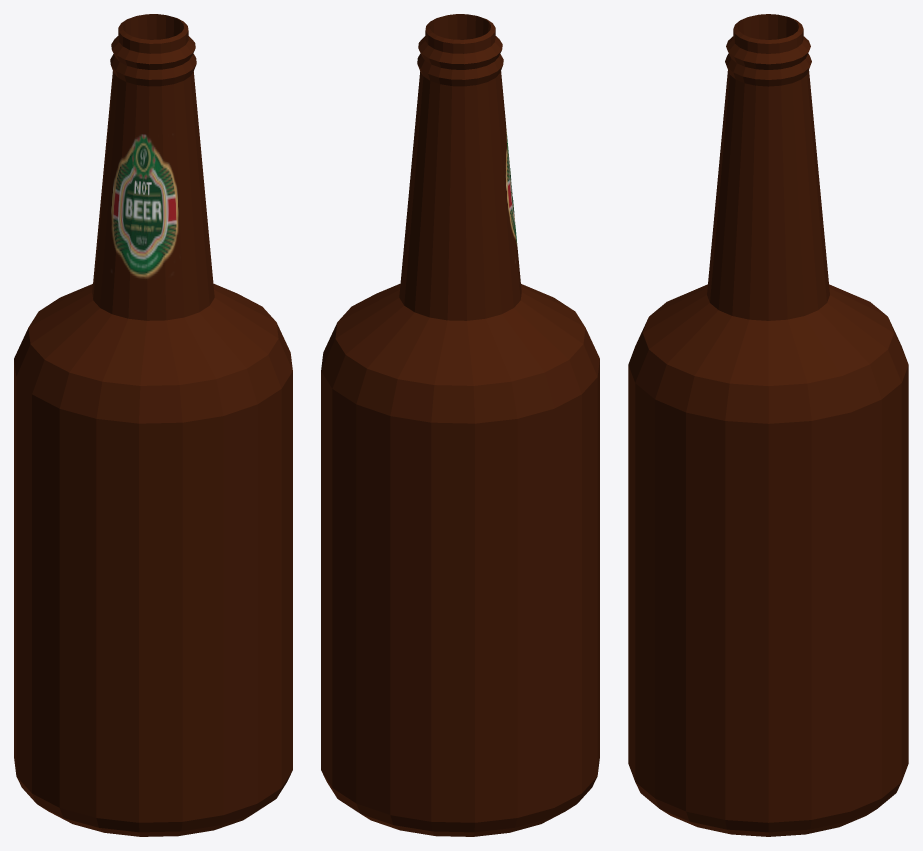
File: Bottle.fbx
3 renders of one model, left to right at view 1: azimuth 30°, elevation 25°; view 2: azimuth 150°, elevation 25°; view 3: azimuth 270°, elevation 25°, orthographic.
Visible parts, largest first — view 1: pCylinder1; view 2: pCylinder1; view 3: pCylinder1.
Part boxes in pixels (x1,y1,x2,y2): pCylinder1: (14, 14, 292, 836); pCylinder1: (321, 14, 599, 836); pCylinder1: (628, 14, 908, 836).
Bounding box in the file's own units: 0.404 × 1.21 × 0.404.
